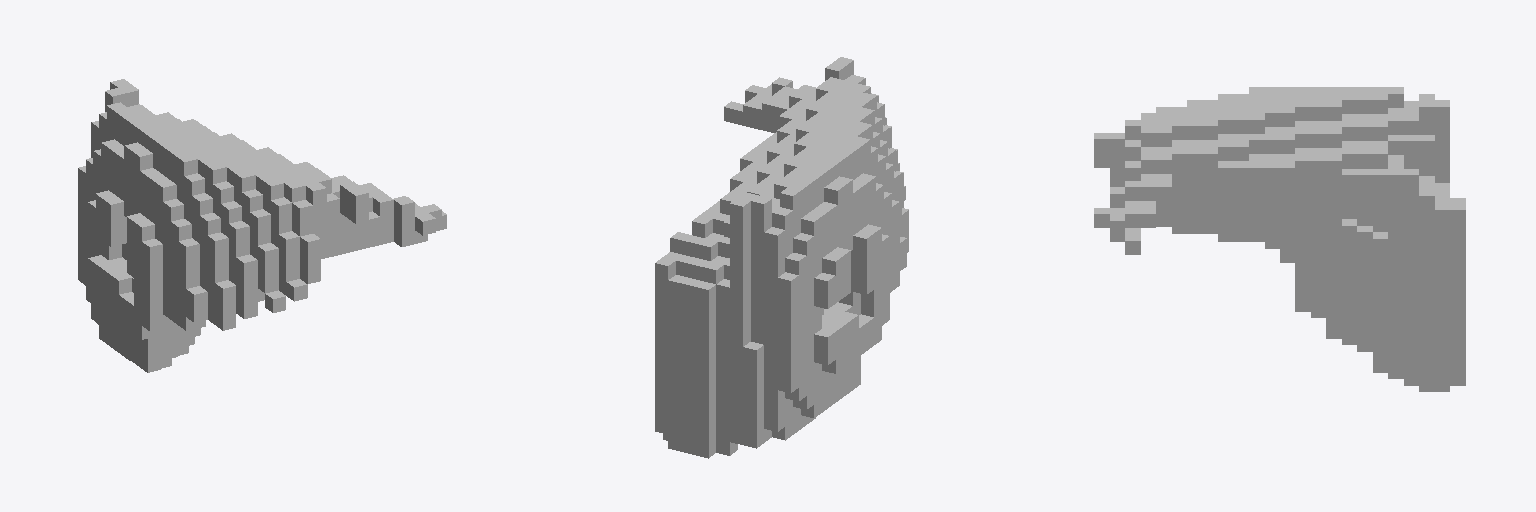
The model's file is боковой осколок (бок 2).obj.
The picture shows the model from 3 angles: view 1: azimuth 30°, elevation 25°; view 2: azimuth 150°, elevation 25°; view 3: azimuth 270°, elevation 25°; orthographic projection.
Visible parts, largest first — view 1: object 1; view 2: object 1; view 3: object 1.
Part boxes in pixels (x1,y1,x2,y2): object 1: (78,79,446,372); object 1: (655,57,908,458); object 1: (1094,87,1465,391).
Bounding box in the file's own units: 1.7 × 1.8 × 2.4.